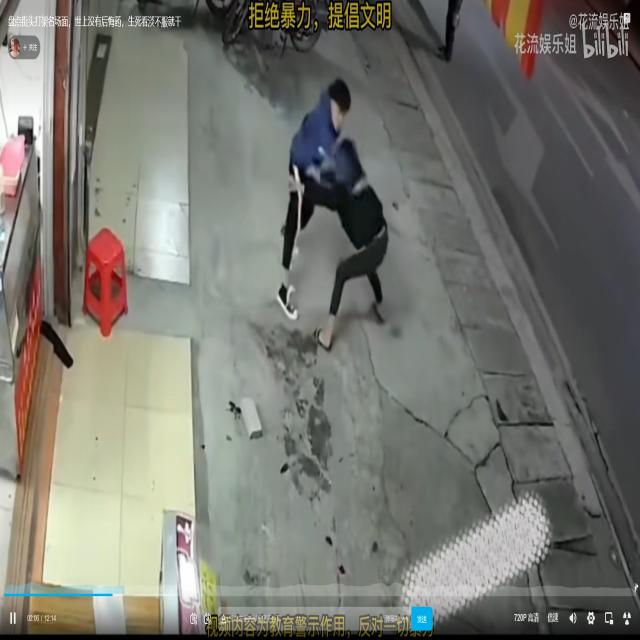fight: (283, 76, 387, 356)
